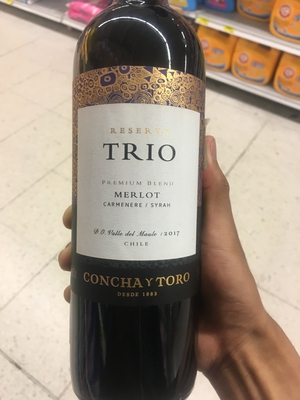trio merlot: (61, 4, 218, 351)
